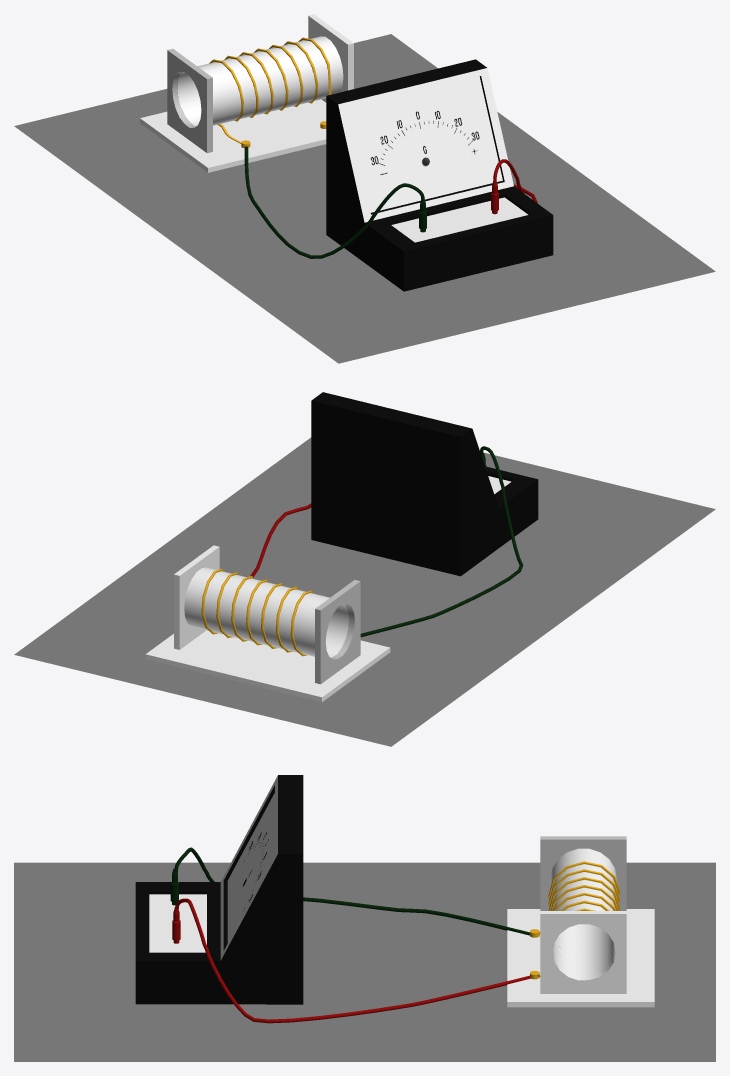
3 renders of one model, top to bottom at view 1: azimuth 30°, elevation 25°; view 2: azimuth 150°, elevation 25°; view 3: azimuth 270°, elevation 25°, orthographic. The views are drawn at different scales.
Visible parts, largest first — view 1: Plane007_Mesh.028, Plane006_Mesh.027, Object002_Mesh.026, Cylinder009_Mesh.023, Box007_Mesh.018, Box006_Mesh.017, Spring002_Mesh.031, Box008_Mesh.019, Shape004_Mesh.030; view 2: Plane007_Mesh.028, Plane006_Mesh.027, Cylinder009_Mesh.023, Box007_Mesh.018, Box006_Mesh.017, Box008_Mesh.019, Spring002_Mesh.031, Shape004_Mesh.030; view 3: Plane007_Mesh.028, Plane006_Mesh.027, Box007_Mesh.018, Cylinder009_Mesh.023, Box008_Mesh.019, Object002_Mesh.026, Box006_Mesh.017, Shape003_Mesh.029, Spring002_Mesh.031, Shape004_Mesh.030.
Boxes of the visible parts, <box> form: Plane007_Mesh.028: <box>14,34,715,363</box>; Plane006_Mesh.027: <box>326,59,553,291</box>; Object002_Mesh.026: <box>347,76,502,212</box>; Cylinder009_Mesh.023: <box>177,36,343,126</box>; Box007_Mesh.018: <box>140,99,326,172</box>; Box006_Mesh.017: <box>167,48,212,153</box>; Spring002_Mesh.031: <box>209,37,331,143</box>; Box008_Mesh.019: <box>308,14,353,102</box>; Shape004_Mesh.030: <box>244,146,424,258</box>; Plane007_Mesh.028: <box>14,437,715,746</box>; Plane006_Mesh.027: <box>311,392,538,576</box>; Cylinder009_Mesh.023: <box>184,567,348,657</box>; Box007_Mesh.018: <box>145,630,390,701</box>; Box006_Mesh.017: <box>315,580,360,684</box>; Box008_Mesh.019: <box>174,545,219,649</box>; Spring002_Mesh.031: <box>201,568,313,656</box>; Shape004_Mesh.030: <box>360,446,523,637</box>; Plane007_Mesh.028: <box>14,862,715,1061</box>; Plane006_Mesh.027: <box>135,775,303,1004</box>; Box007_Mesh.018: <box>507,909,654,1007</box>; Cylinder009_Mesh.023: <box>550,848,616,977</box>; Box008_Mesh.019: <box>540,911,626,993</box>; Object002_Mesh.026: <box>227,793,274,942</box>; Box006_Mesh.017: <box>540,836,626,910</box>; Shape003_Mesh.029: <box>174,898,530,1023</box>; Spring002_Mesh.031: <box>537,861,619,976</box>; Shape004_Mesh.030: <box>174,847,529,935</box>.
Size of the model in its own units: 0.5673 by 0.2035 by 0.8454.
Materials: 9 (1 with a texture image).
